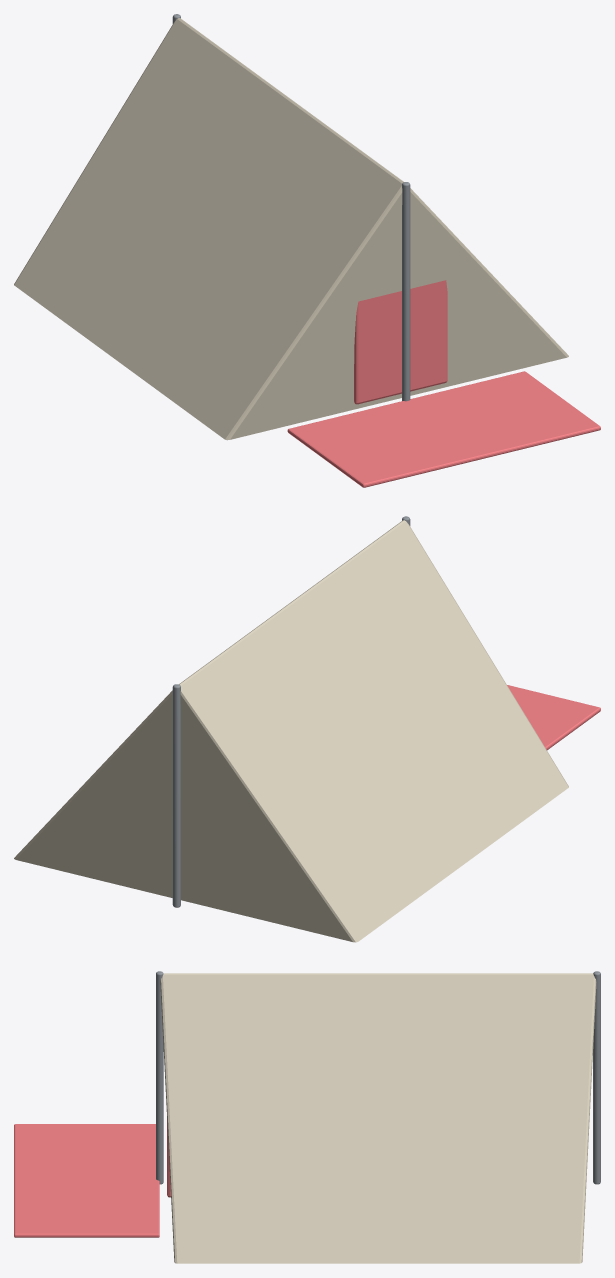
The model's file is tent.fbx.
The picture shows the model from 3 angles, top to bottom: view 1: azimuth 30°, elevation 25°; view 2: azimuth 150°, elevation 25°; view 3: azimuth 270°, elevation 25°; orthographic projection. The views are drawn at different scales.
Parts seen in each view (by area): view 1: Visual; view 2: Visual; view 3: Visual.
Part boxes in pixels (<box>): Visual: <box>14,14,600,487</box>; Visual: <box>14,516,600,942</box>; Visual: <box>14,971,600,1263</box>.
Size of what is drawn, in the model's own units: 260 by 160 by 403.
